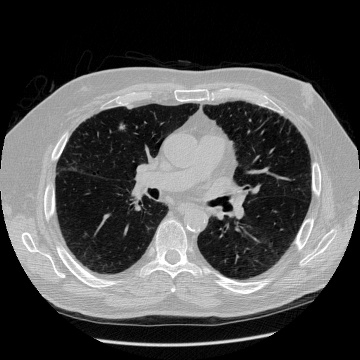PN: (118, 123, 126, 131)
